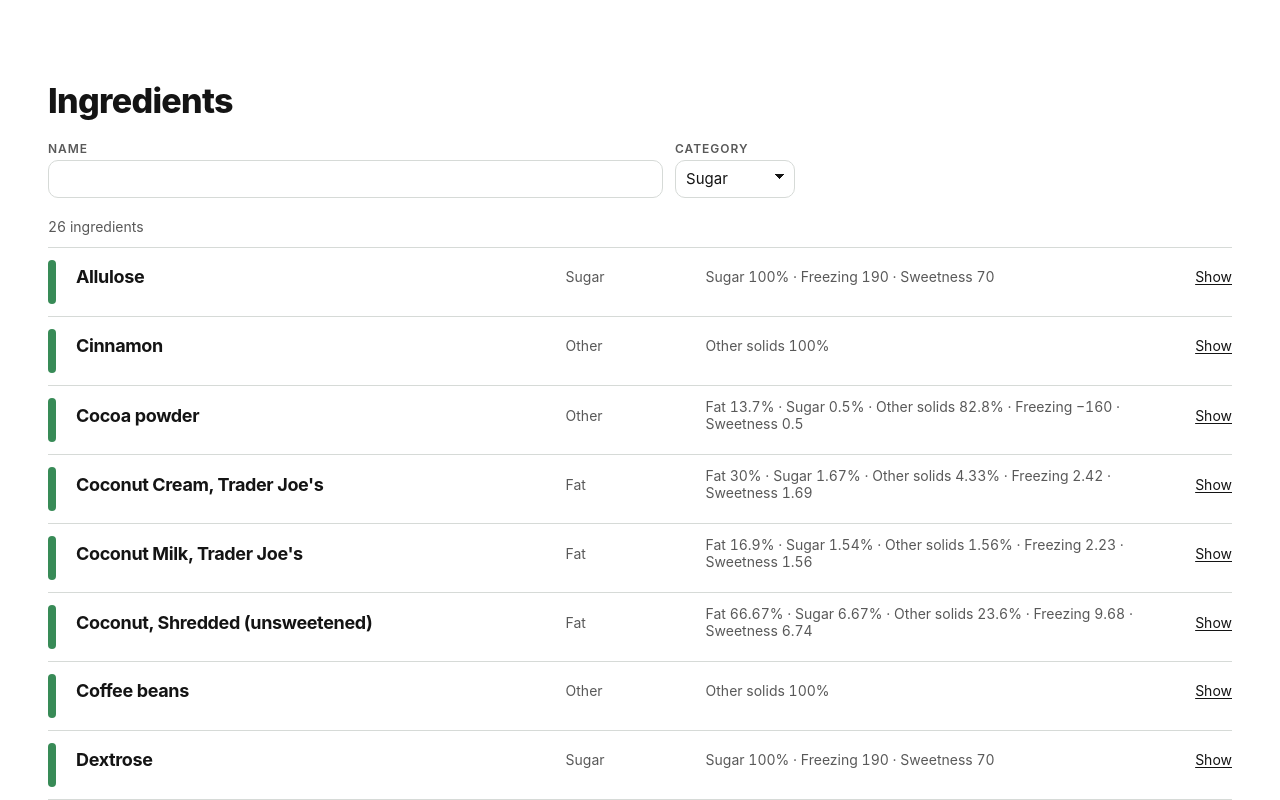
the filters › choosing Sugar gives four rows
Select "Sugar" in the dropdown labelled "Category": (735, 179) [675,160,795,198]
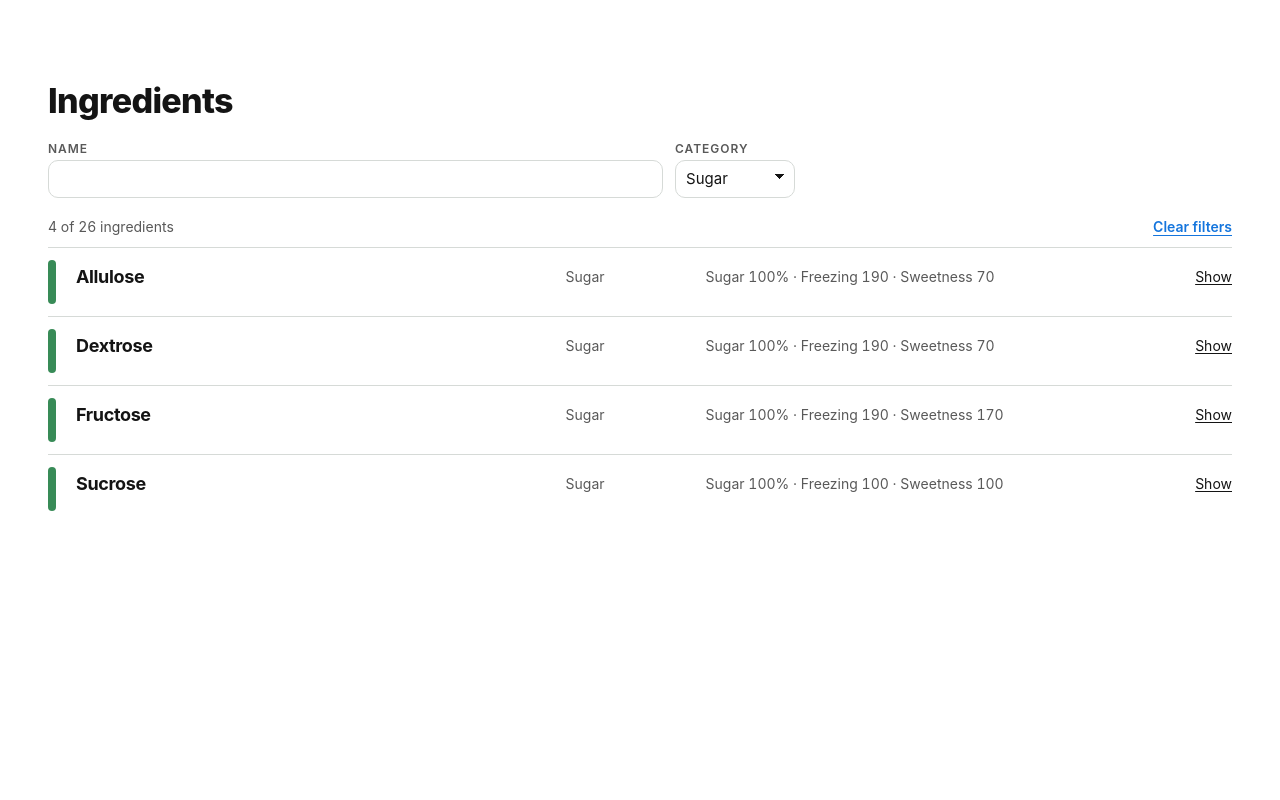
Check: the number of list items with class "ing__row" is 4, box [48,247,1232,316]; [48,316,1232,385]; [48,385,1232,454]; [48,454,1232,523]
Check: the message with class "ing__count" reads "4 of 26 ingredients", box [48,218,174,235]
